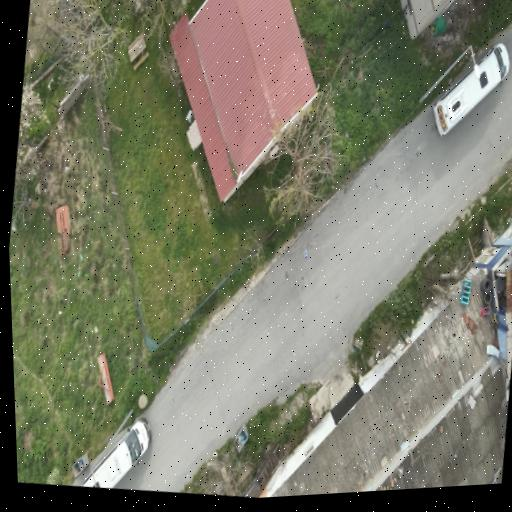bus: (433, 42, 509, 136), (80, 419, 149, 488)
